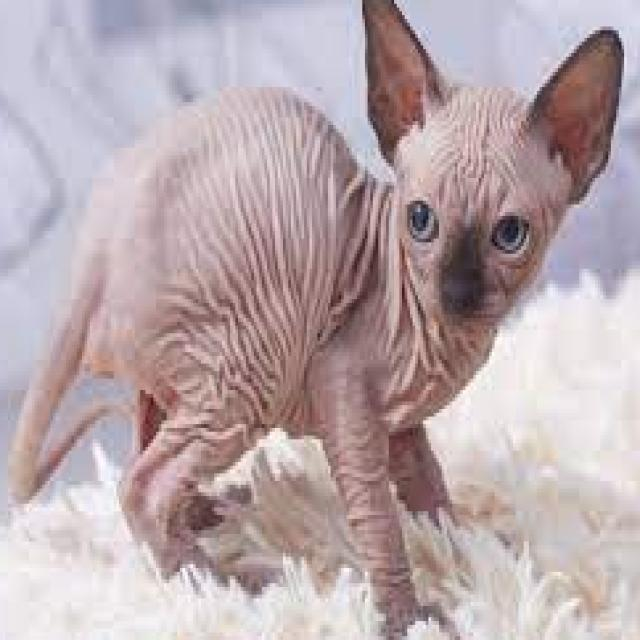Sphynx: (5, 0, 624, 640)
